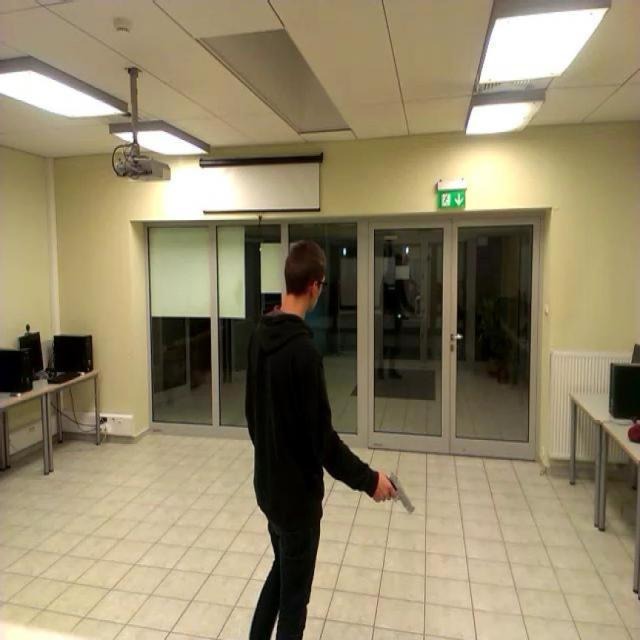pistol: (380, 469, 414, 514)
